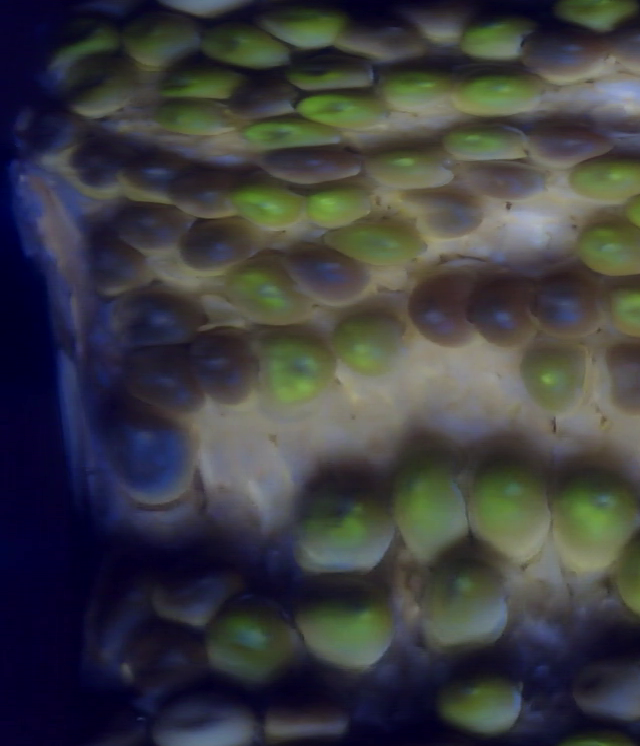fluorescent: (393, 447, 470, 567), (465, 462, 550, 564), (422, 558, 506, 652), (203, 597, 292, 683), (295, 588, 386, 672), (556, 482, 637, 574), (297, 495, 392, 571), (267, 334, 334, 404), (333, 317, 412, 374), (519, 347, 589, 410), (223, 267, 300, 323), (441, 677, 525, 728), (200, 26, 291, 69), (118, 16, 200, 62), (266, 8, 346, 53), (328, 226, 427, 262), (574, 223, 640, 273), (571, 156, 640, 203), (366, 150, 453, 187), (242, 116, 347, 146), (159, 64, 243, 101), (288, 53, 370, 90), (457, 77, 536, 115), (298, 90, 379, 127), (380, 72, 451, 113), (234, 186, 303, 226), (158, 102, 242, 133), (461, 22, 529, 60), (447, 127, 523, 160), (308, 192, 369, 230), (62, 27, 118, 62), (608, 284, 640, 337)
nonfluorescent: (98, 388, 196, 507), (408, 257, 475, 346), (148, 695, 262, 746), (278, 246, 365, 307), (521, 23, 609, 83), (466, 274, 532, 349), (123, 350, 198, 414), (156, 566, 237, 622), (190, 337, 255, 404), (530, 271, 598, 334), (566, 663, 640, 720), (458, 159, 545, 205), (180, 218, 260, 268), (124, 636, 209, 683), (256, 147, 363, 183), (530, 125, 613, 170), (403, 188, 477, 238), (335, 20, 419, 59), (132, 297, 198, 346), (115, 206, 178, 255), (25, 113, 77, 167), (123, 153, 180, 202), (94, 244, 143, 297), (72, 144, 123, 194), (178, 173, 233, 217), (265, 709, 344, 739), (604, 344, 640, 409), (229, 83, 295, 117)
